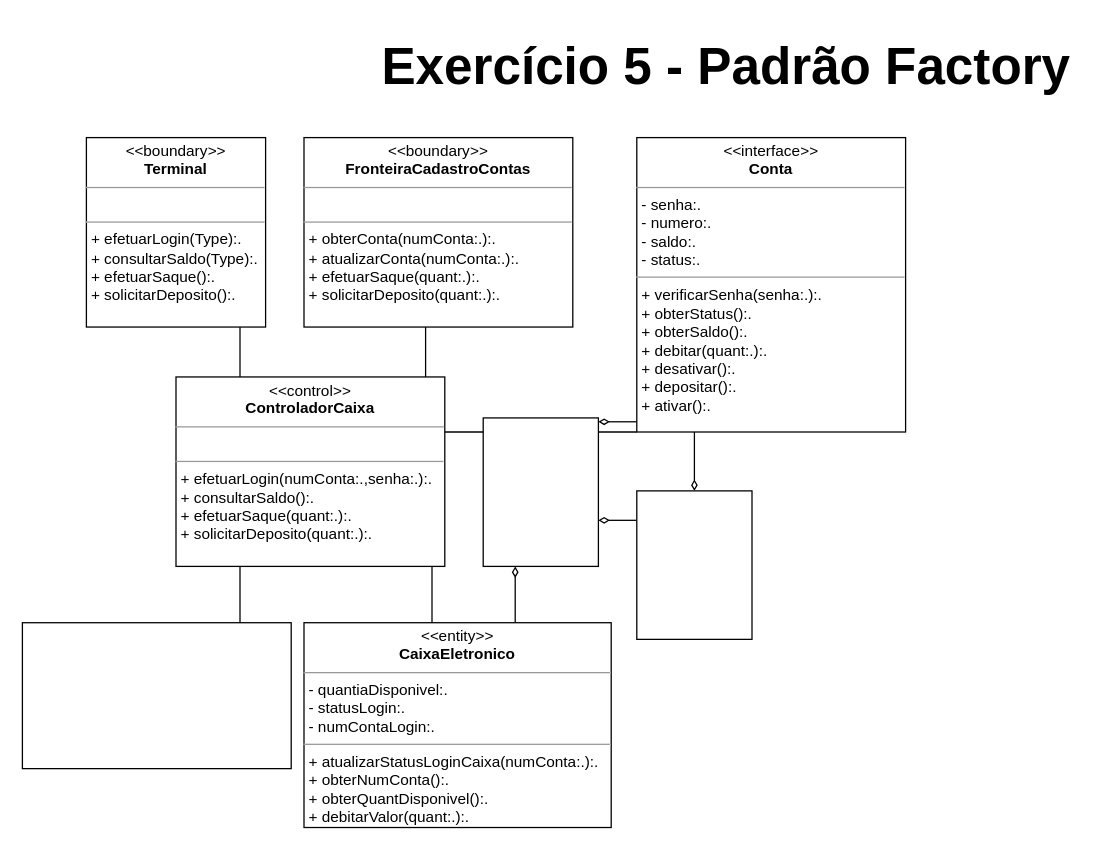
The diagram is 1094 pixels wide and 850 high, and some of its shapes have lost their labels. The centre of each missing label's shape, as x and y in pixels:
<< boundary >> FronteiraDispensadorNotas + liberarQuantia(quant:.):.: point (156, 695)
<< entity >> Banco - cod:. - nome:.: point (540, 491)
<< entity >> FichaCliente - nome:. - RG:. - CPF:.: point (694, 564)
